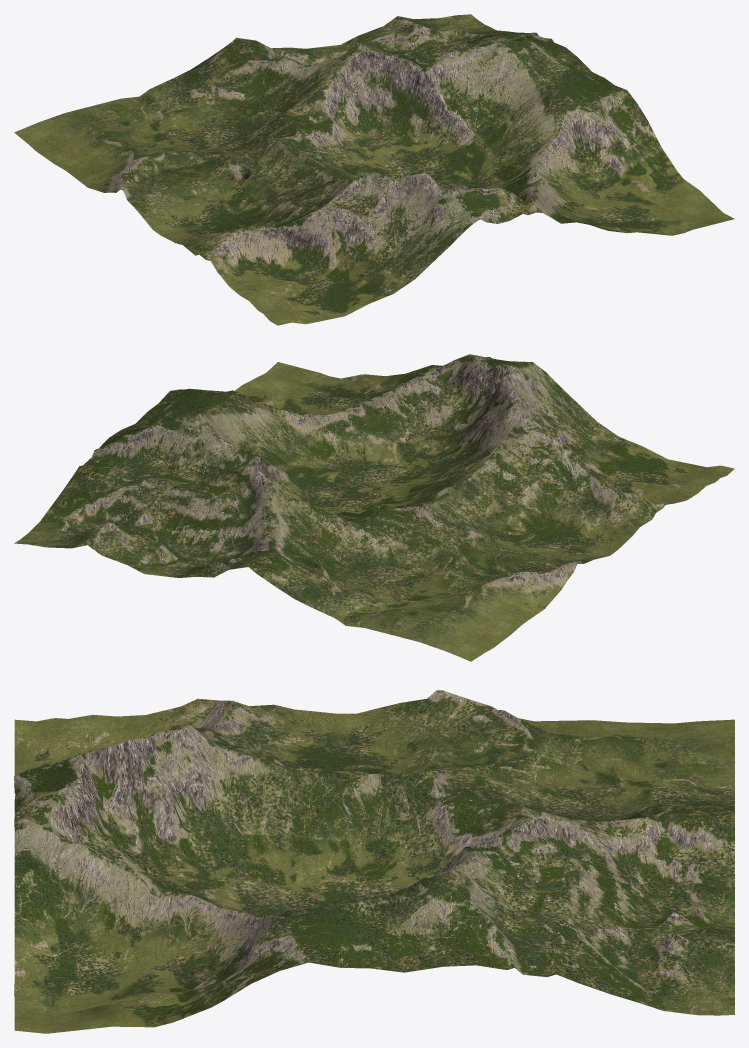
The model's file is Terrain.fbx.
3 renders of one model, top to bottom at view 1: azimuth 30°, elevation 25°; view 2: azimuth 150°, elevation 25°; view 3: azimuth 270°, elevation 25°, orthographic. The views are drawn at different scales.
Visible parts, largest first — view 1: 8842eed260aa4dad81773d51ca9066fb; view 2: 8842eed260aa4dad81773d51ca9066fb; view 3: 8842eed260aa4dad81773d51ca9066fb.
Part boxes in pixels (box(x1,y1,x2,y2)): 8842eed260aa4dad81773d51ca9066fb: box(14, 14, 734, 325); 8842eed260aa4dad81773d51ca9066fb: box(14, 354, 734, 661); 8842eed260aa4dad81773d51ca9066fb: box(14, 690, 734, 1033).
Size of the model in its own units: 1001 by 178 by 1001.
